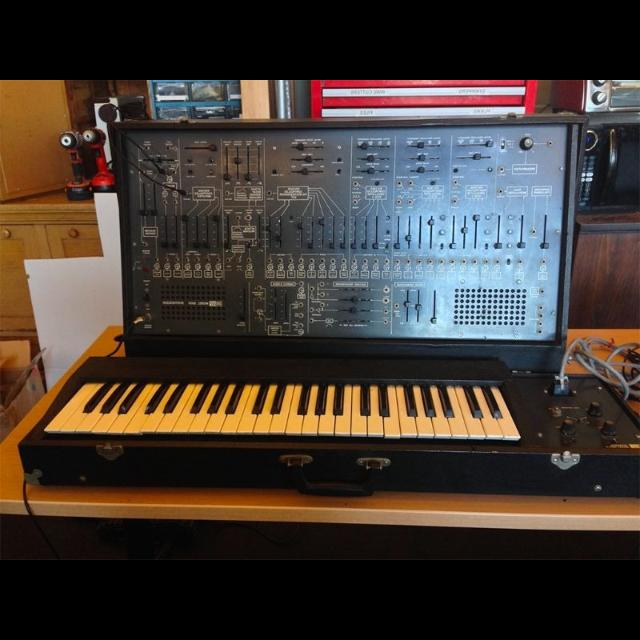Electronic-Keyboard: (28, 116, 608, 484)
